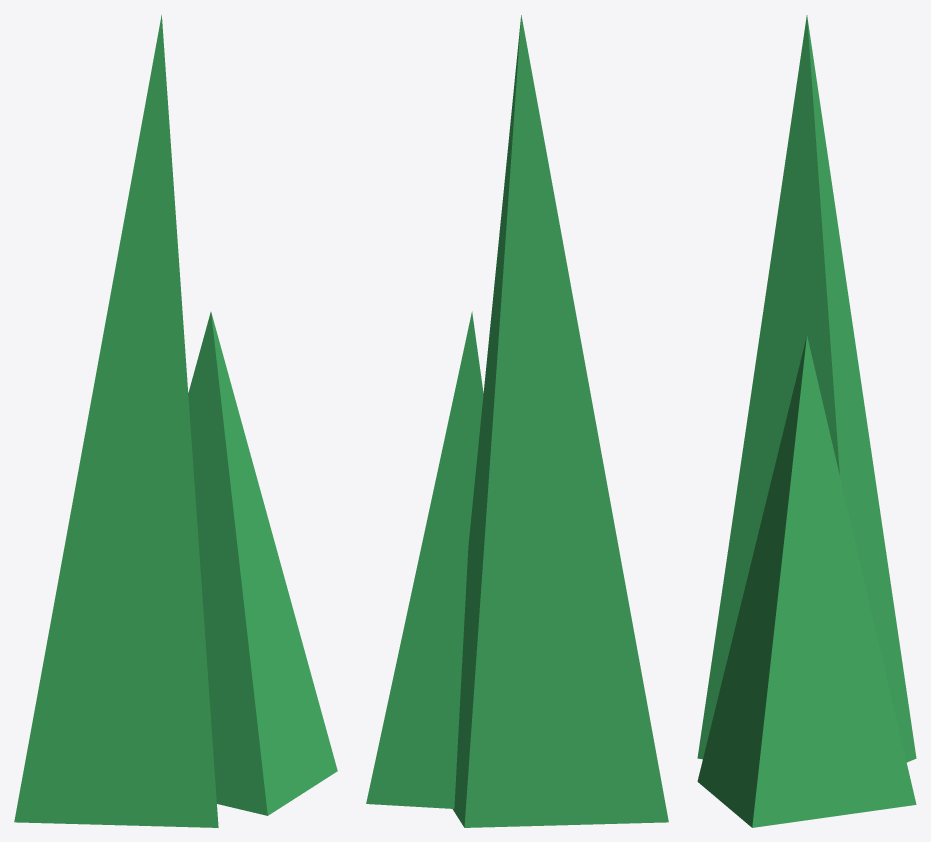
File: grass.fbx
The picture shows the model from 3 angles, left to right: view 1: azimuth 30°, elevation 25°; view 2: azimuth 150°, elevation 25°; view 3: azimuth 270°, elevation 25°; orthographic projection. The views are drawn at different scales.
Parts seen in each view (by area): view 1: pyramid; view 2: pyramid; view 3: pyramid.
Boxes of the visible parts, x1,y1,x2,y2 form: pyramid: (14,15,337,827); pyramid: (366,15,668,827); pyramid: (697,15,916,827).
Size of the model in its own units: 37.5 by 93.75 by 25.
1 material, 1 textured.
